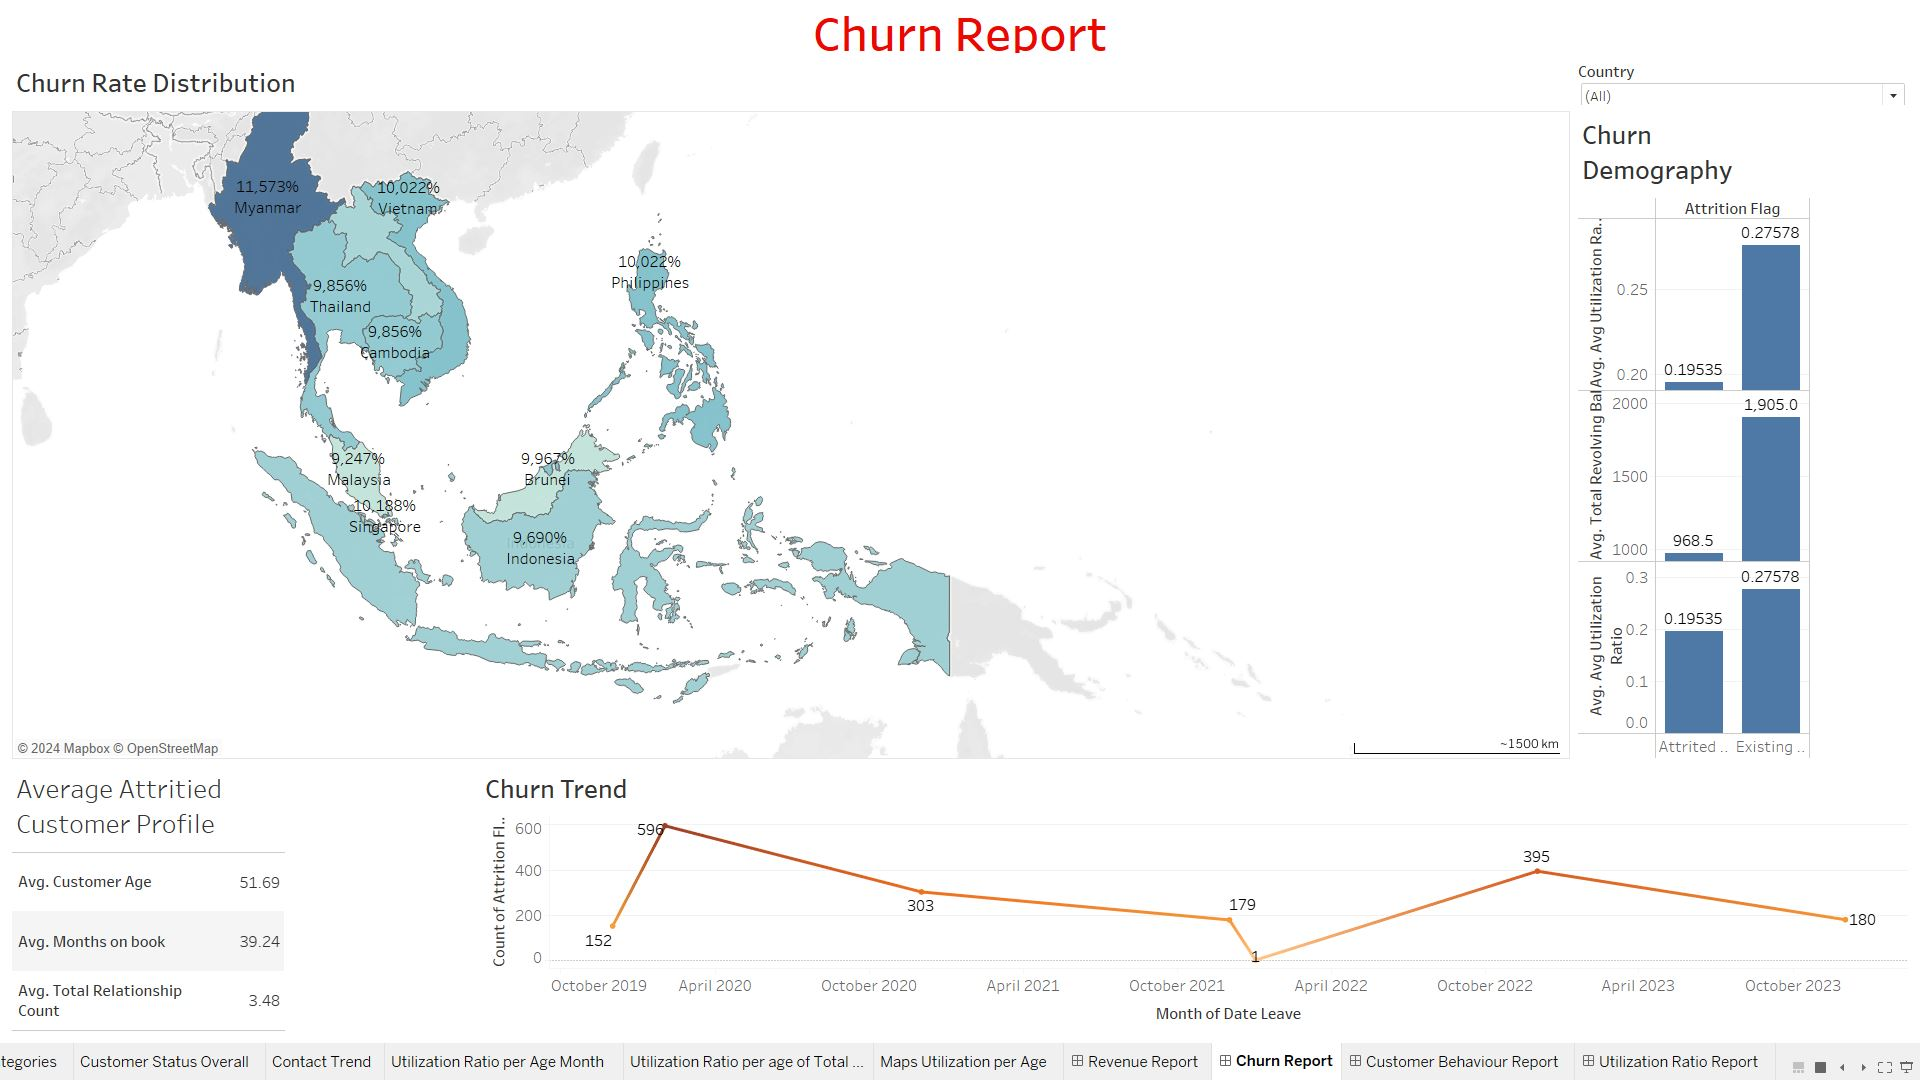

The page's visual inventory and layout, read from the dashboard file:
{"tool":"tableau","page":{"name":"Churn Report","canvas":[1000,1000],"units":"permille","ordinal":0},"visuals":[{"type":"title","box":[4.8,9.3,990.3,156.8]},{"type":"filter","title":"Churn Rate Distribution","param":"[federated.1ccpgh20nh87yk13rwn9y19mnfh2].[none:Country:nk]","box":[4.8,166.1,720.5,77.7]},{"type":"worksheet","title":"Churn Demography","mark":"Automatic","rows":["Avg_Utilization_Ratio","Total_Revolving_Bal","Avg_Open_To_Buy"],"cols":["Attrition_Flag"],"box":[725.4,166.1,269.8,571.8]},{"type":"worksheet","title":"Churn Rate Distribution","mark":"Multipolygon","box":[4.8,243.8,720.5,531.4]},{"type":"filter","title":"Churn Trend","param":"[federated.1ccpgh20nh87yk13rwn9y19mnfh2].[tqr:Date_Leave:qk]","box":[725.4,737.9,269.8,37.3]},{"type":"worksheet","title":"Customer Profile Tooltip","mark":"Automatic","box":[4.8,775.2,166.1,215.5]},{"type":"worksheet","title":"Churn Trend","mark":"Automatic","rows":["Attrition_Flag"],"cols":["Date_Leave"],"box":[170.9,775.2,824.2,215.5]}]}

Visuals, with their boxes on the dashboard's canvas, which has no fixed pixel size, in thousandths of its width and height (x1, y1, x2, y2). These are canvas units, not pixel positions in the 1920x1080 screenshot, which may show the page scaled, cropped or inside an application window:
title: 5/9/995/166
"Churn Rate Distribution" filter: 5/166/725/244
"Churn Demography" worksheet: 725/166/995/738
"Churn Rate Distribution" worksheet (Multipolygon marks): 5/244/725/775
"Churn Trend" filter: 725/738/995/775
"Customer Profile Tooltip" worksheet: 5/775/171/991
"Churn Trend" worksheet: 171/775/995/991
